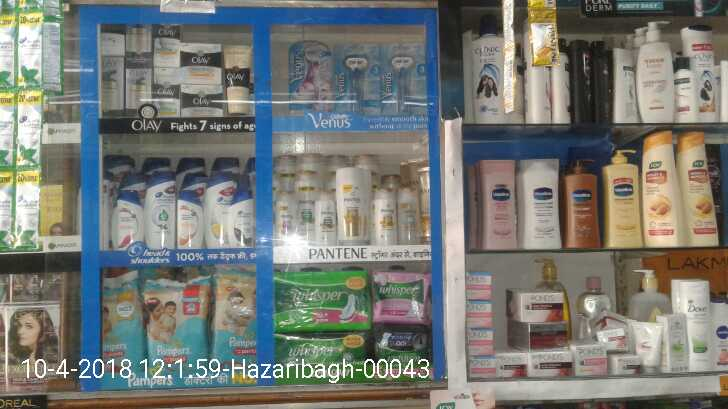venus: (288, 41, 335, 116), (335, 41, 382, 114), (382, 41, 427, 114)
